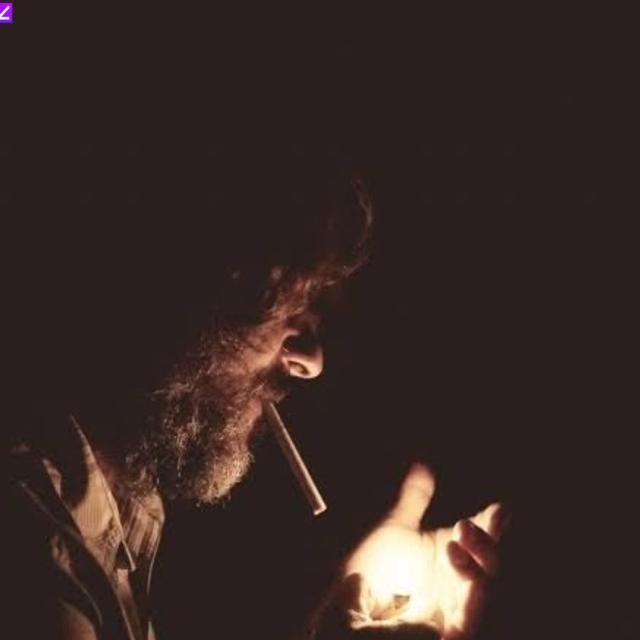fire: (366, 528, 449, 624)
